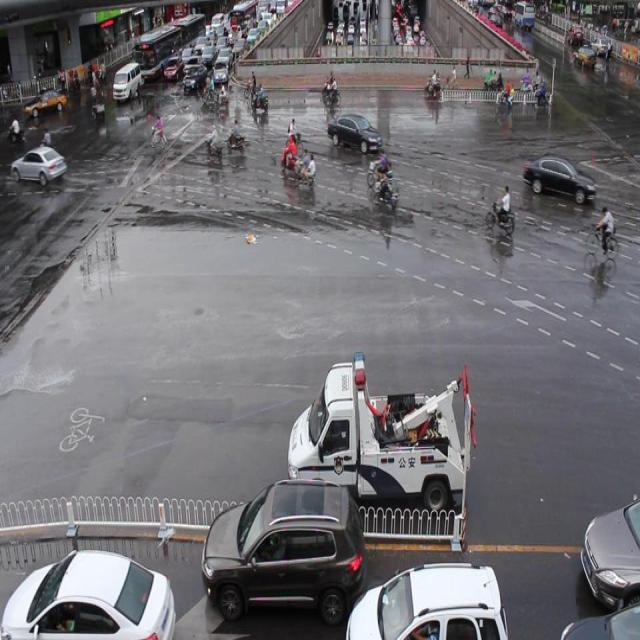bus: (287, 352, 473, 518)
car: (203, 474, 366, 623), (1, 545, 174, 640), (345, 559, 508, 640), (581, 501, 640, 610), (522, 153, 594, 206), (558, 605, 640, 640), (327, 112, 383, 153)
